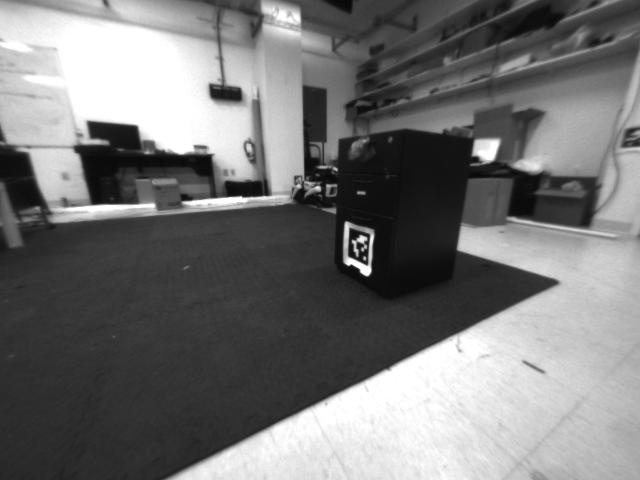drawer: (340, 135, 376, 168)
